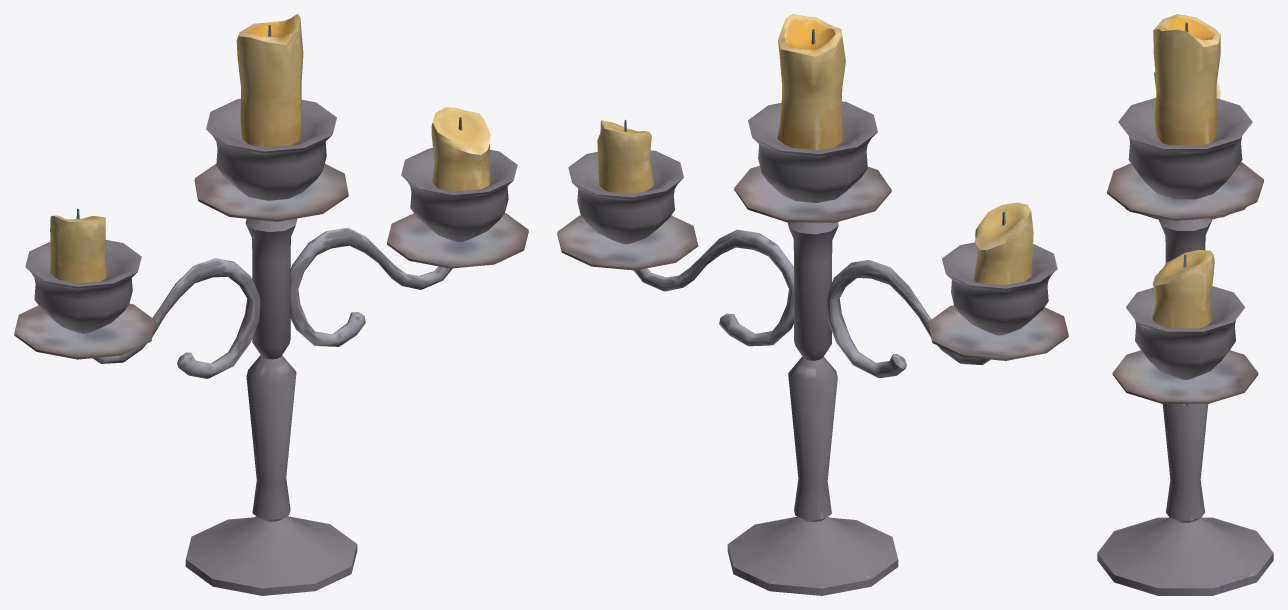
File: CandleStick_Triple.gltf
3 views of the same model, side by side, from view 1: azimuth 30°, elevation 25°; view 2: azimuth 150°, elevation 25°; view 3: azimuth 270°, elevation 25° (orthographic).
Parts seen in each view (by area): view 1: CandleStick_Triple; view 2: CandleStick_Triple; view 3: CandleStick_Triple.
Part boxes in pixels (bbox=[...]): CandleStick_Triple: bbox=[14, 14, 528, 595]; CandleStick_Triple: bbox=[557, 14, 1068, 595]; CandleStick_Triple: bbox=[1097, 14, 1273, 595].
Size of the model in its own units: 0.4423 by 0.4633 by 0.1364.
Materials: 2 (2 with a texture image).
